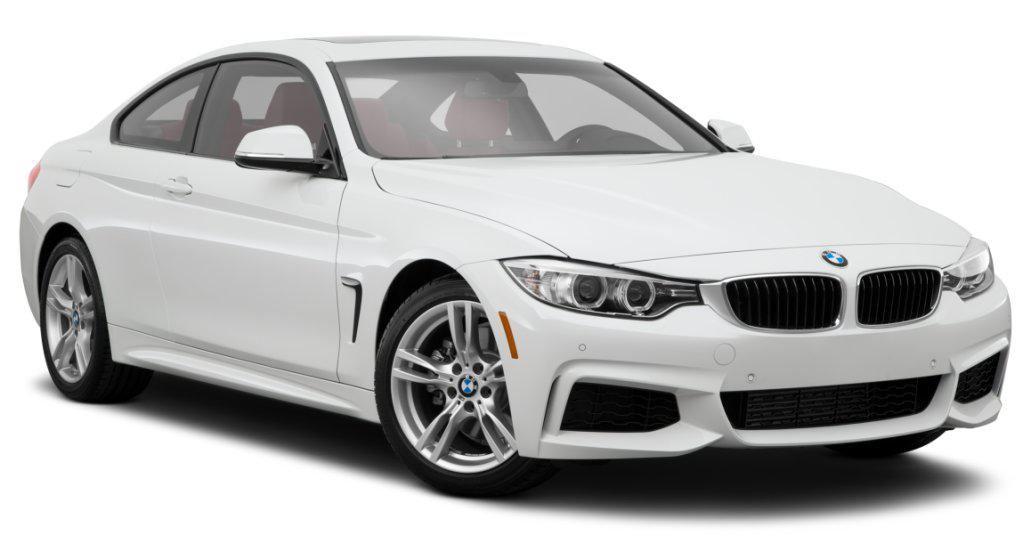bmw: (6, 12, 1018, 545)
